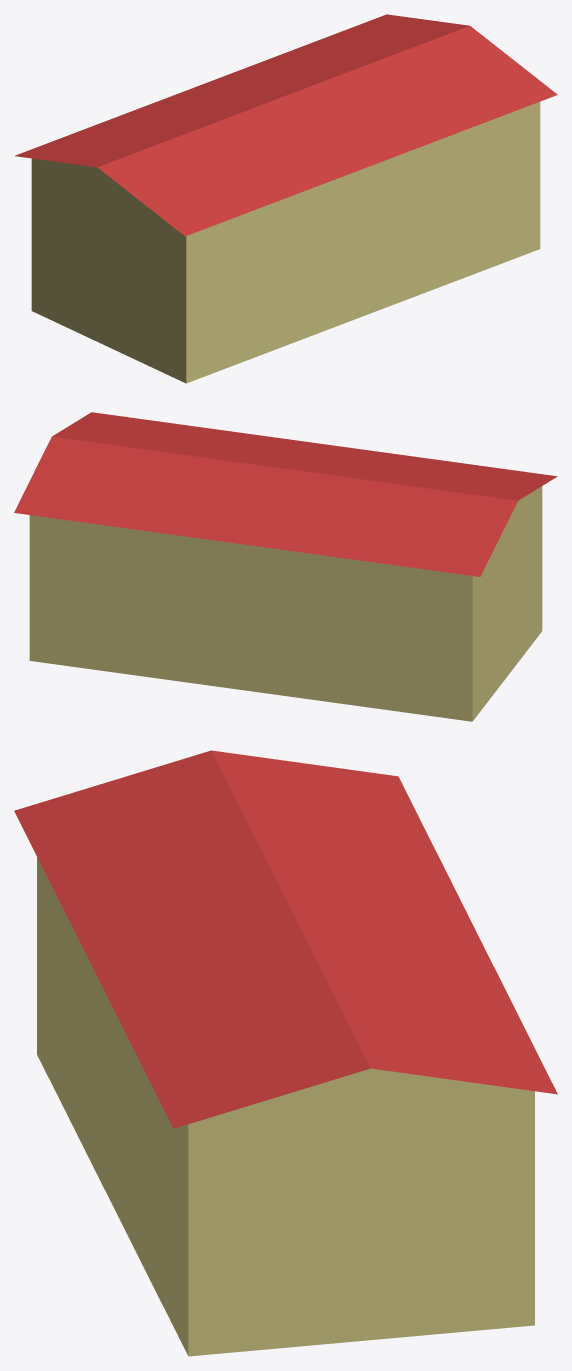
The picture shows the model from 3 angles, top to bottom: view 1: azimuth 30°, elevation 25°; view 2: azimuth 150°, elevation 25°; view 3: azimuth 270°, elevation 25°; orthographic projection. The views are drawn at different scales.
Size of the model in its own units: 21.55 by 14.05 by 7.98.
